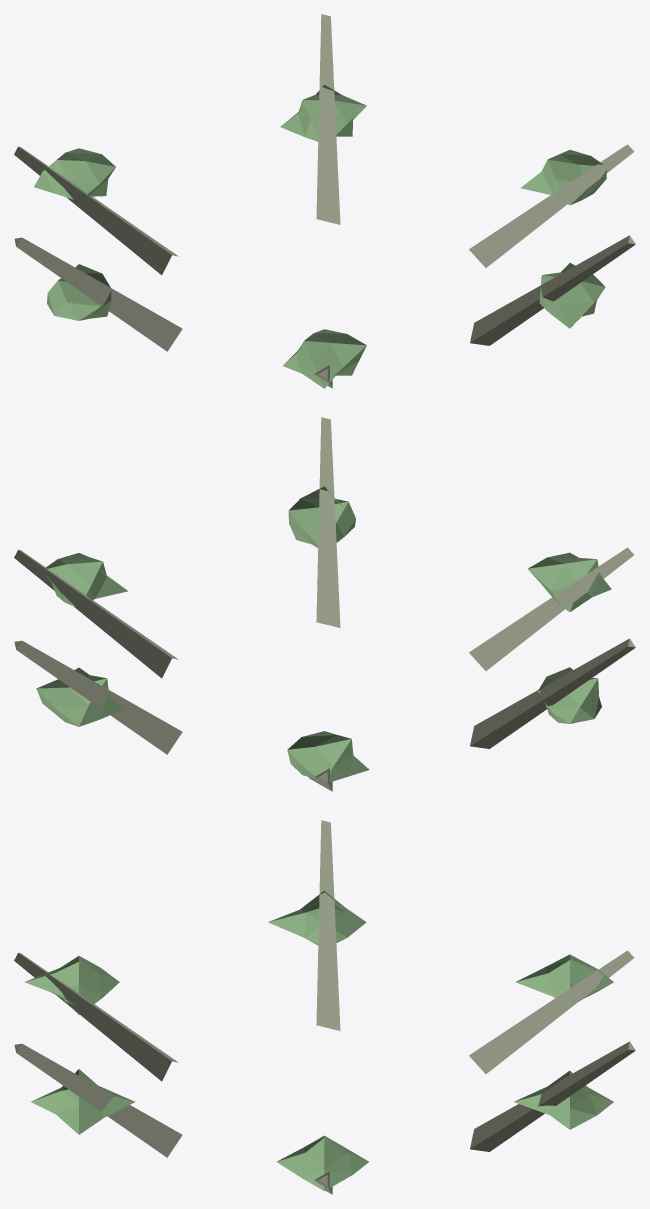
The model's file is bramble_v15.glb.
3 renders of one model, top to bottom at view 1: azimuth 30°, elevation 25°; view 2: azimuth 150°, elevation 25°; view 3: azimuth 270°, elevation 25°, orthographic.
Parts seen in each view (by area): view 1: lod0; view 2: lod0; view 3: lod0.
Part boxes in pixels (left/top/right/bottom): lod0: left=14, top=14, right=635, bottom=388; lod0: left=14, top=417, right=635, bottom=791; lod0: left=14, top=820, right=635, bottom=1194.
Size of what is drawn, in the model's own units: 1.11 by 0.2562 by 0.9691.
